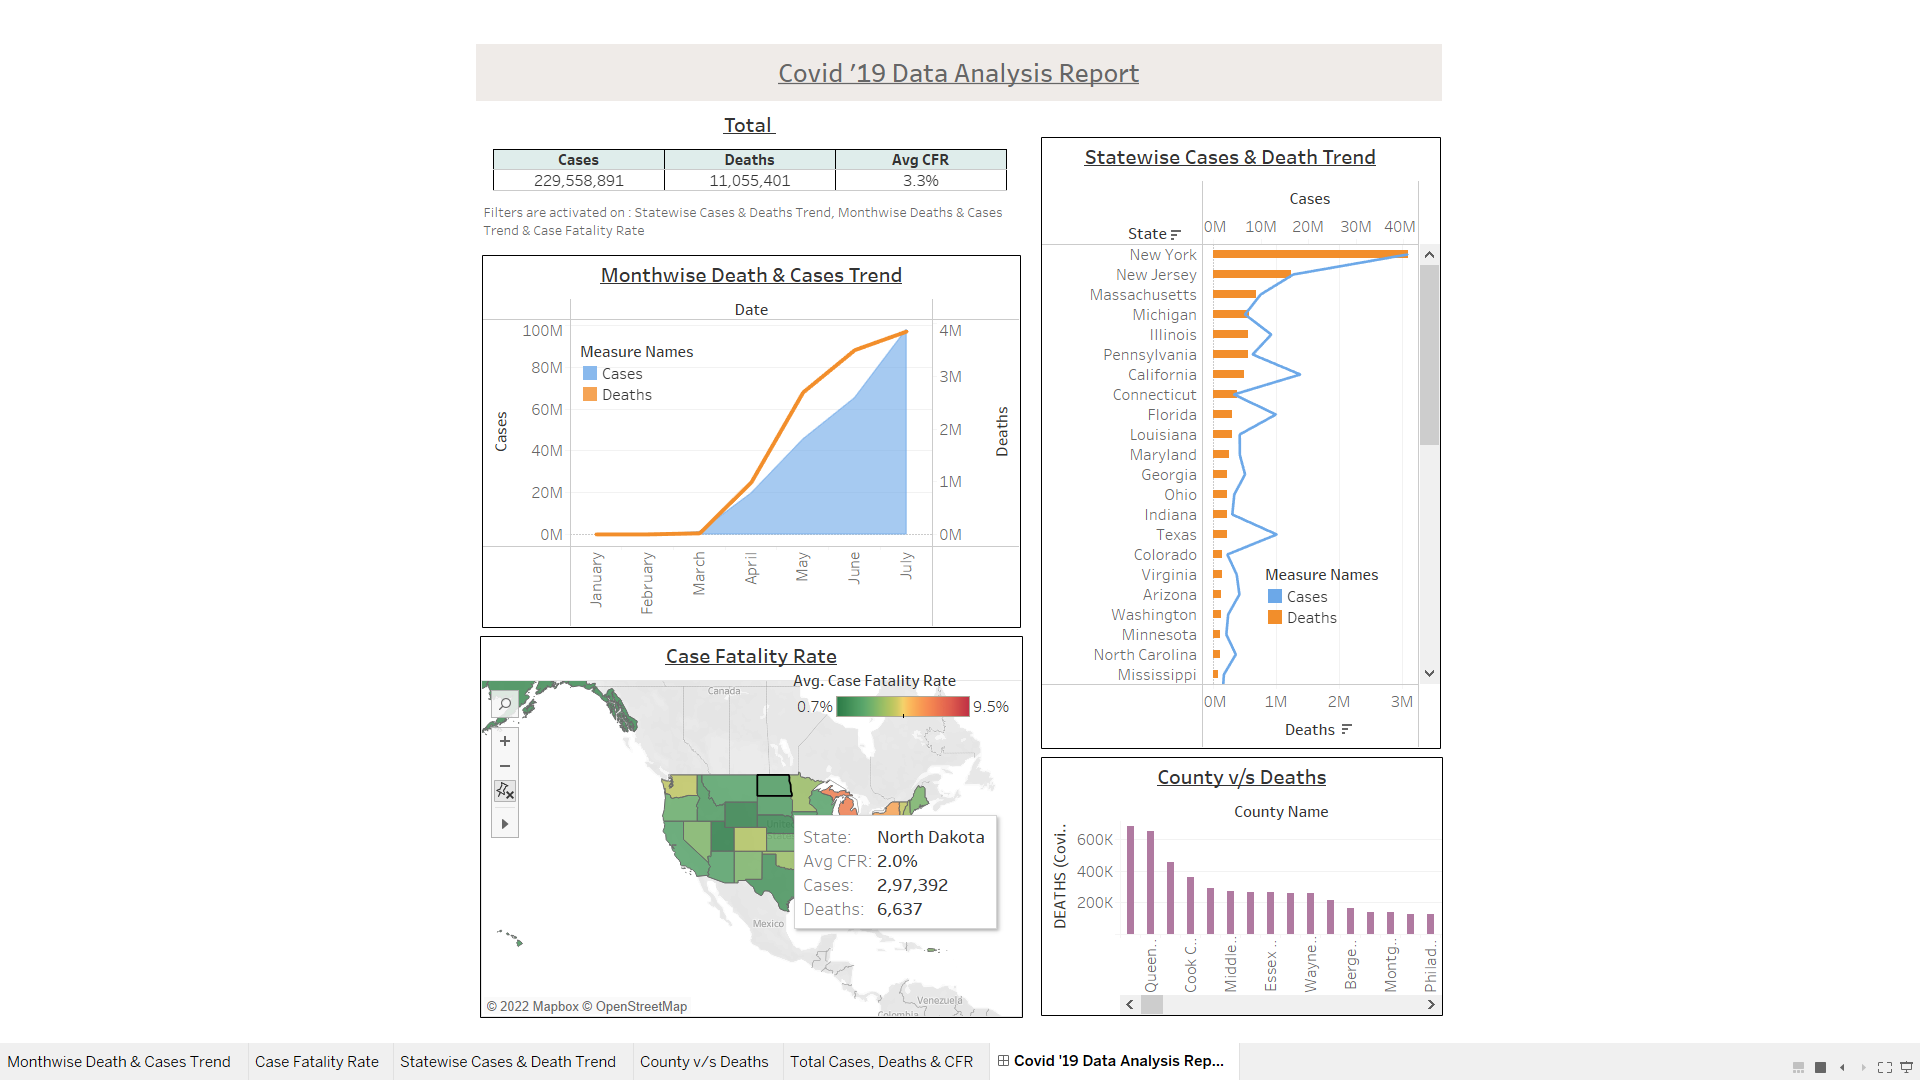

The page's visual inventory and layout, read from the dashboard file:
{"tool":"tableau","page":{"name":"Covid '19 Data Analysis Report","canvas":[1000,1000],"ordinal":0},"visuals":[{"type":"text","box":[16,23,966,57]},{"type":"worksheet","title":"Total Cases, Deaths & CFR","mark":"Automatic","box":[33,85,558,86]},{"type":"worksheet","title":"Statewise Cases & Death Trend","mark":"Automatic","rows":["STATE"],"cols":["DEATHS","CASES"],"box":[581,116,400,612]},{"type":"text","box":[20,164,540,72]},{"type":"worksheet","title":"Monthwise Death & Cases Trend","mark":"Automatic","rows":["CASES","DEATHS"],"cols":["DATE"],"box":[22,234,539,373]},{"type":"legend","title":"Monthwise Death & Cases Trend","param":"[federated.0ui7ffg10hddcb1d2uvlm0c506nb].[:Measure Names]","box":[120,320,150,67]},{"type":"legend","title":"Statewise Cases & Death Trend","param":"[federated.0ui7ffg10hddcb1d2uvlm0c506nb].[:Measure Names]","box":[805,543,124,72]},{"type":"worksheet","title":"Case Fatality Rate","mark":"Automatic","box":[20,615,543,382]},{"type":"legend","title":"Case Fatality Rate","param":"[federated.0ui7ffg10hddcb1d2uvlm0c506nb].[avg:Calculation_444730521132519424:qk]","box":[333,649,221,58]},{"type":"worksheet","title":"County v/s Deaths","mark":"Automatic","rows":["DEATHS (Covid_County_Level_Data.csv)"],"cols":["COUNTY_NAME"],"box":[581,736,402,259]}]}

Visuals, with their boxes on the page's 1000x1000 design canvas (x1, y1, x2, y2). These are canvas units, not pixel positions in the 1920x1080 screenshot, which may show the page scaled, cropped or inside an application window:
text: region(16, 23, 982, 80)
"Total Cases, Deaths & CFR" worksheet: region(33, 85, 591, 171)
"Statewise Cases & Death Trend" worksheet: region(581, 116, 981, 728)
text: region(20, 164, 560, 236)
"Monthwise Death & Cases Trend" worksheet: region(22, 234, 561, 607)
"Monthwise Death & Cases Trend" legend: region(120, 320, 270, 387)
"Statewise Cases & Death Trend" legend: region(805, 543, 929, 615)
"Case Fatality Rate" worksheet: region(20, 615, 563, 997)
"Case Fatality Rate" legend: region(333, 649, 554, 707)
"County v/s Deaths" worksheet: region(581, 736, 983, 995)
